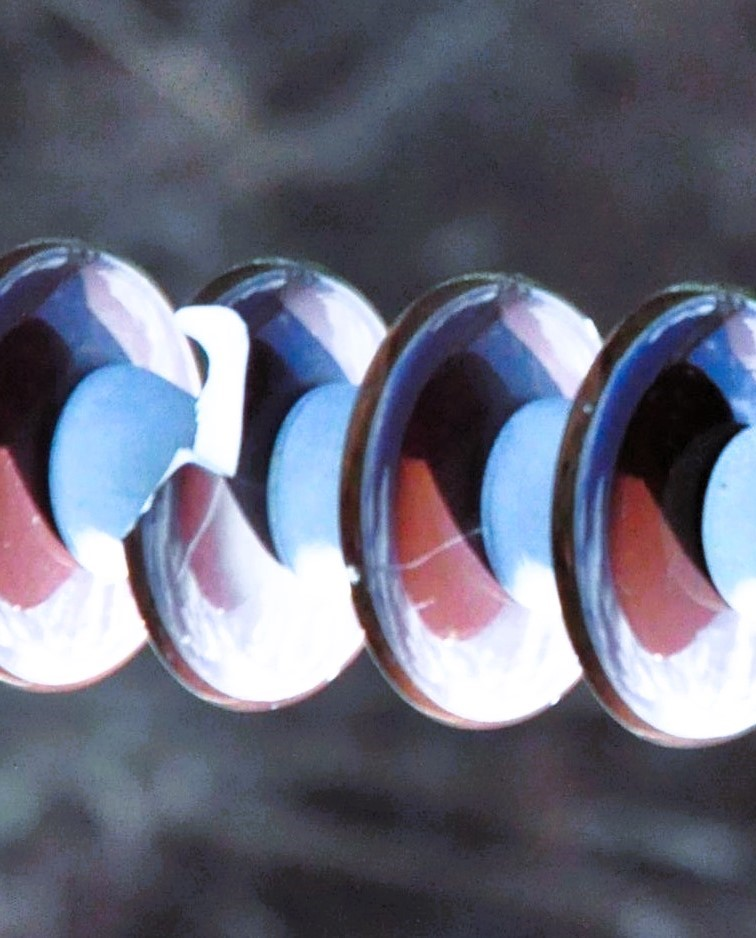insulator breakage: (117, 253, 387, 726)
